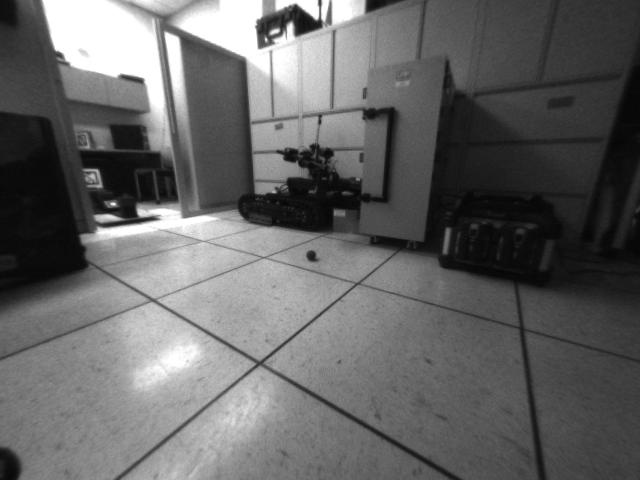dogtoy: (302, 247, 323, 266)
